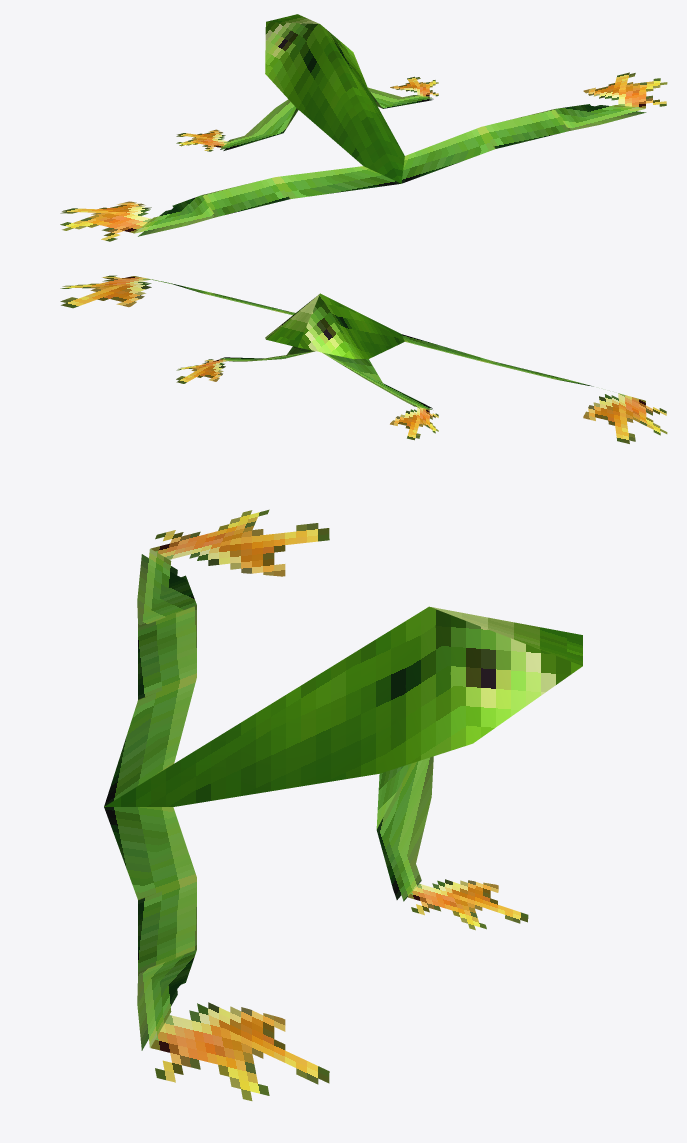
Rendered from Critter_Frog.FBX.
3 renders of one model, top to bottom at view 1: azimuth 30°, elevation 25°; view 2: azimuth 150°, elevation 25°; view 3: azimuth 270°, elevation 25°, orthographic. The views are drawn at different scales.
Parts seen in each view (by area): view 1: critter_frog; view 2: critter_frog; view 3: critter_frog.
Boxes of the visible parts, bbox=[...] form: critter_frog: bbox=[60, 14, 667, 241]; critter_frog: bbox=[60, 275, 667, 443]; critter_frog: bbox=[104, 509, 582, 1100].
Bounding box in the file's own units: 73.71 × 10.71 × 23.2.
